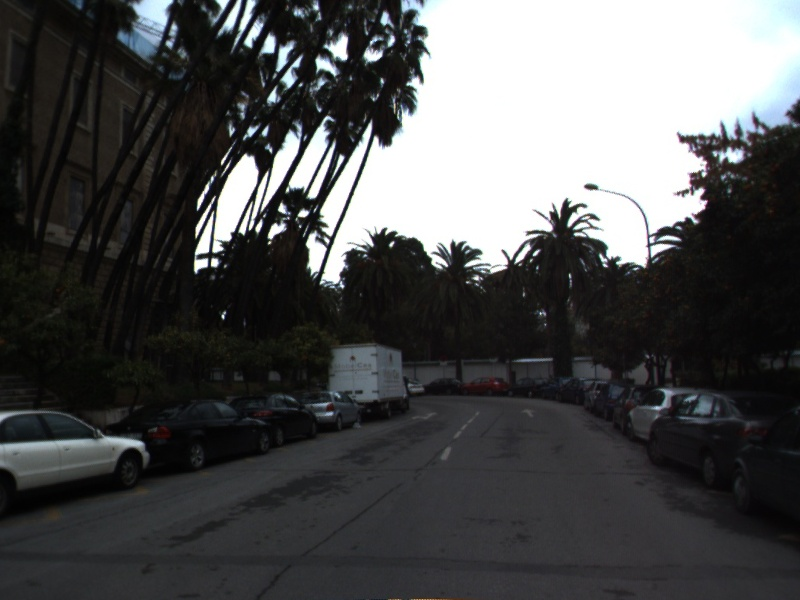STRAIGHT: (519, 407, 539, 419)
STRAIGHT_LEFT: (410, 410, 440, 422)
